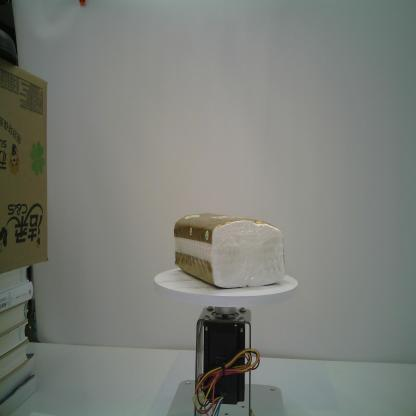Tissue: (173, 212, 286, 290)
